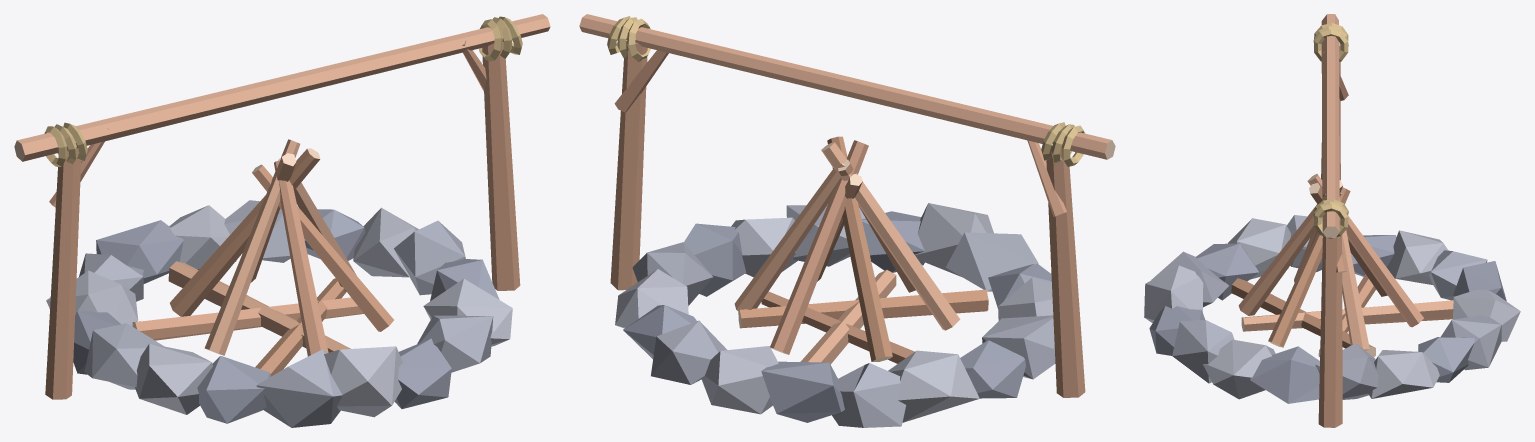
File: campfire_staged.glb
3 renders of one model, left to right at view 1: azimuth 30°, elevation 25°; view 2: azimuth 150°, elevation 25°; view 3: azimuth 270°, elevation 25°, orthographic. The views are drawn at different scales.
Parts seen in each view (by area): view 1: spit_bar, spit_post_R, spit_post_L, ring_stone12, ring_stone13, ring_stone10, stick_t3, ring_stone11, stick_t2, stick_t4, ring_stone5, ring_stone9 (+18 smaller); view 2: spit_bar, spit_post_L, spit_post_R, ring_stone7, ring_stone5, stick_t1, ring_stone4, stick_t3, ring_stone6, stick_t2, ring_stone12, stick_g2 (+21 smaller); view 3: spit_post_R, spit_bar, ring_stone17, ring_stone16, ring_stone1, ring_stone15, ring_stone13, ring_stone7, stick_g0, stick_t1, stick_t4, ring_stone10 (+18 smaller).
Part boxes in pixels (<box>): spit_bar: <box>14,14,550,161</box>; spit_post_R: <box>482,42,520,290</box>; spit_post_L: <box>45,148,81,399</box>; ring_stone12: <box>256,349,342,427</box>; ring_stone13: <box>324,346,402,417</box>; ring_stone10: <box>135,343,212,414</box>; stick_t3: <box>204,139,300,355</box>; ring_stone11: <box>197,356,270,423</box>; stick_t2: <box>170,148,320,316</box>; stick_t4: <box>274,160,328,356</box>; ring_stone5: <box>96,220,183,283</box>; ring_stone9: <box>84,323,163,389</box>; spit_bar: <box>579,14,1115,159</box>; spit_post_L: <box>1046,144,1085,397</box>; spit_post_R: <box>610,40,647,290</box>; ring_stone7: <box>888,350,979,422</box>; ring_stone5: <box>761,361,844,422</box>; stick_t1: <box>770,140,868,354</box>; ring_stone4: <box>701,346,778,414</box>; stick_t3: <box>821,142,960,330</box>; ring_stone6: <box>832,363,906,427</box>; stick_t2: <box>827,136,892,361</box>; ring_stone12: <box>945,232,1038,291</box>; stick_g2: <box>738,289,988,328</box>; spit_post_R: <box>1318,217,1342,427</box>; spit_bar: <box>1321,14,1339,238</box>; ring_stone17: <box>1250,346,1319,403</box>; ring_stone16: <box>1203,339,1275,399</box>; ring_stone1: <box>1368,350,1439,398</box>; ring_stone15: <box>1172,320,1234,383</box>; ring_stone13: <box>1144,265,1203,322</box>; ring_stone7: <box>1387,230,1448,284</box>; stick_g0: <box>1241,300,1453,331</box>; stick_t1: <box>1307,174,1423,327</box>; stick_t4: <box>1238,192,1341,315</box>; ring_stone10: <box>1228,218,1290,279</box>.
Size of the model in its own units: 1.5 by 0.7431 by 1.13.
